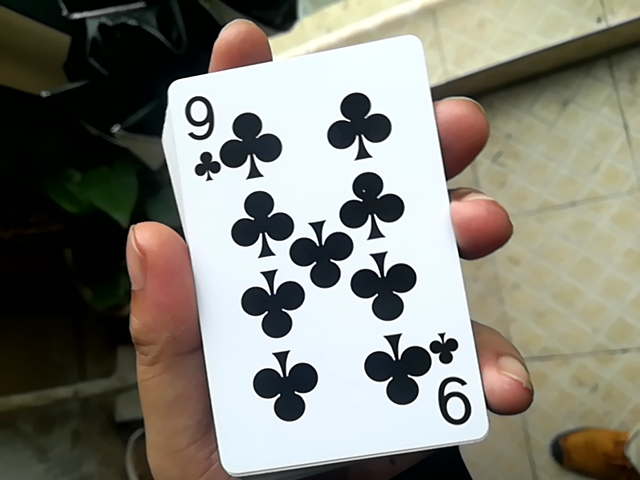mh 9: (142, 36, 486, 472)
